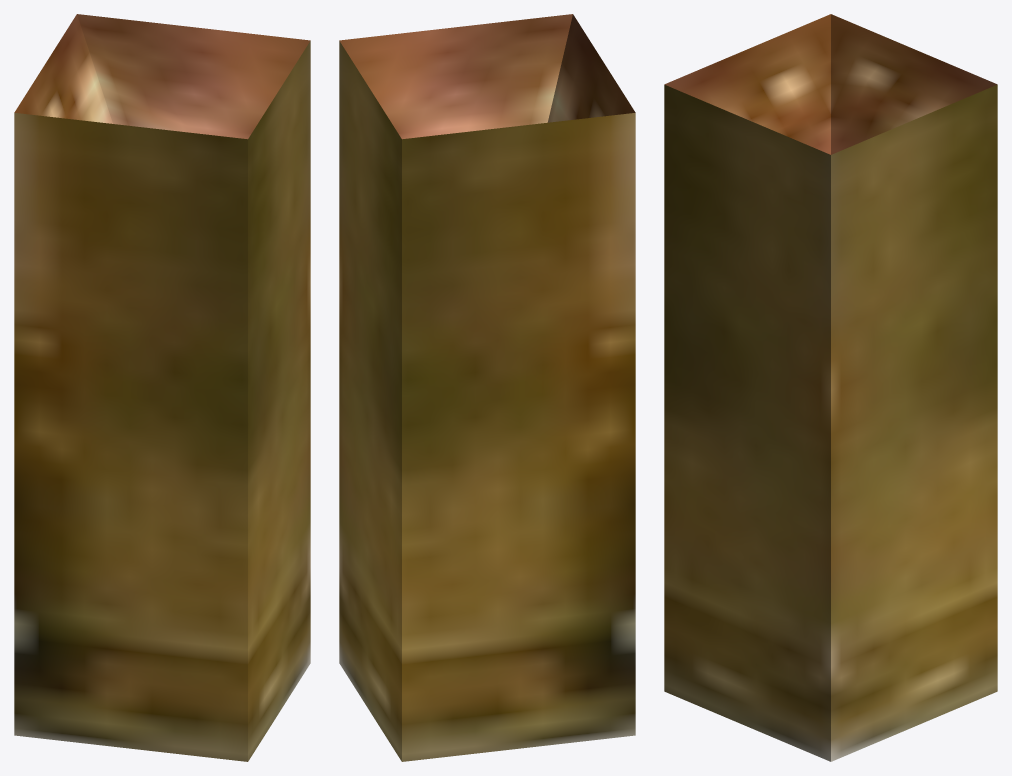
Rendered from pistol_round.glb.
The picture shows the model from 3 angles, left to right: view 1: azimuth 30°, elevation 25°; view 2: azimuth 150°, elevation 25°; view 3: azimuth 270°, elevation 25°; orthographic projection. The views are drawn at different scales.
Parts seen in each view (by area): view 1: 9MM; view 2: 9MM; view 3: 9MM.
Boxes of the visible parts, x1=… form: 9MM: x1=14, y1=14, x2=310, y2=761; 9MM: x1=339, y1=14, x2=635, y2=761; 9MM: x1=664, y1=14, x2=997, y2=761.
Size of the model in its own units: 0.0906 by 0.1818 by 0.0906.
Materials: 1 (1 with a texture image).
